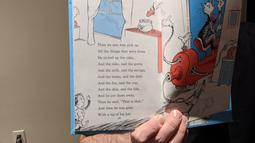text block: (91, 40, 154, 118)
